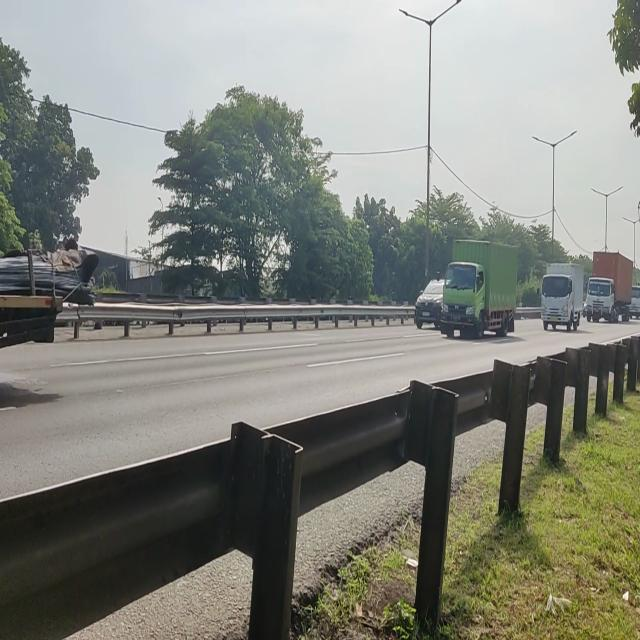Golongan II: (437, 235, 519, 341)
